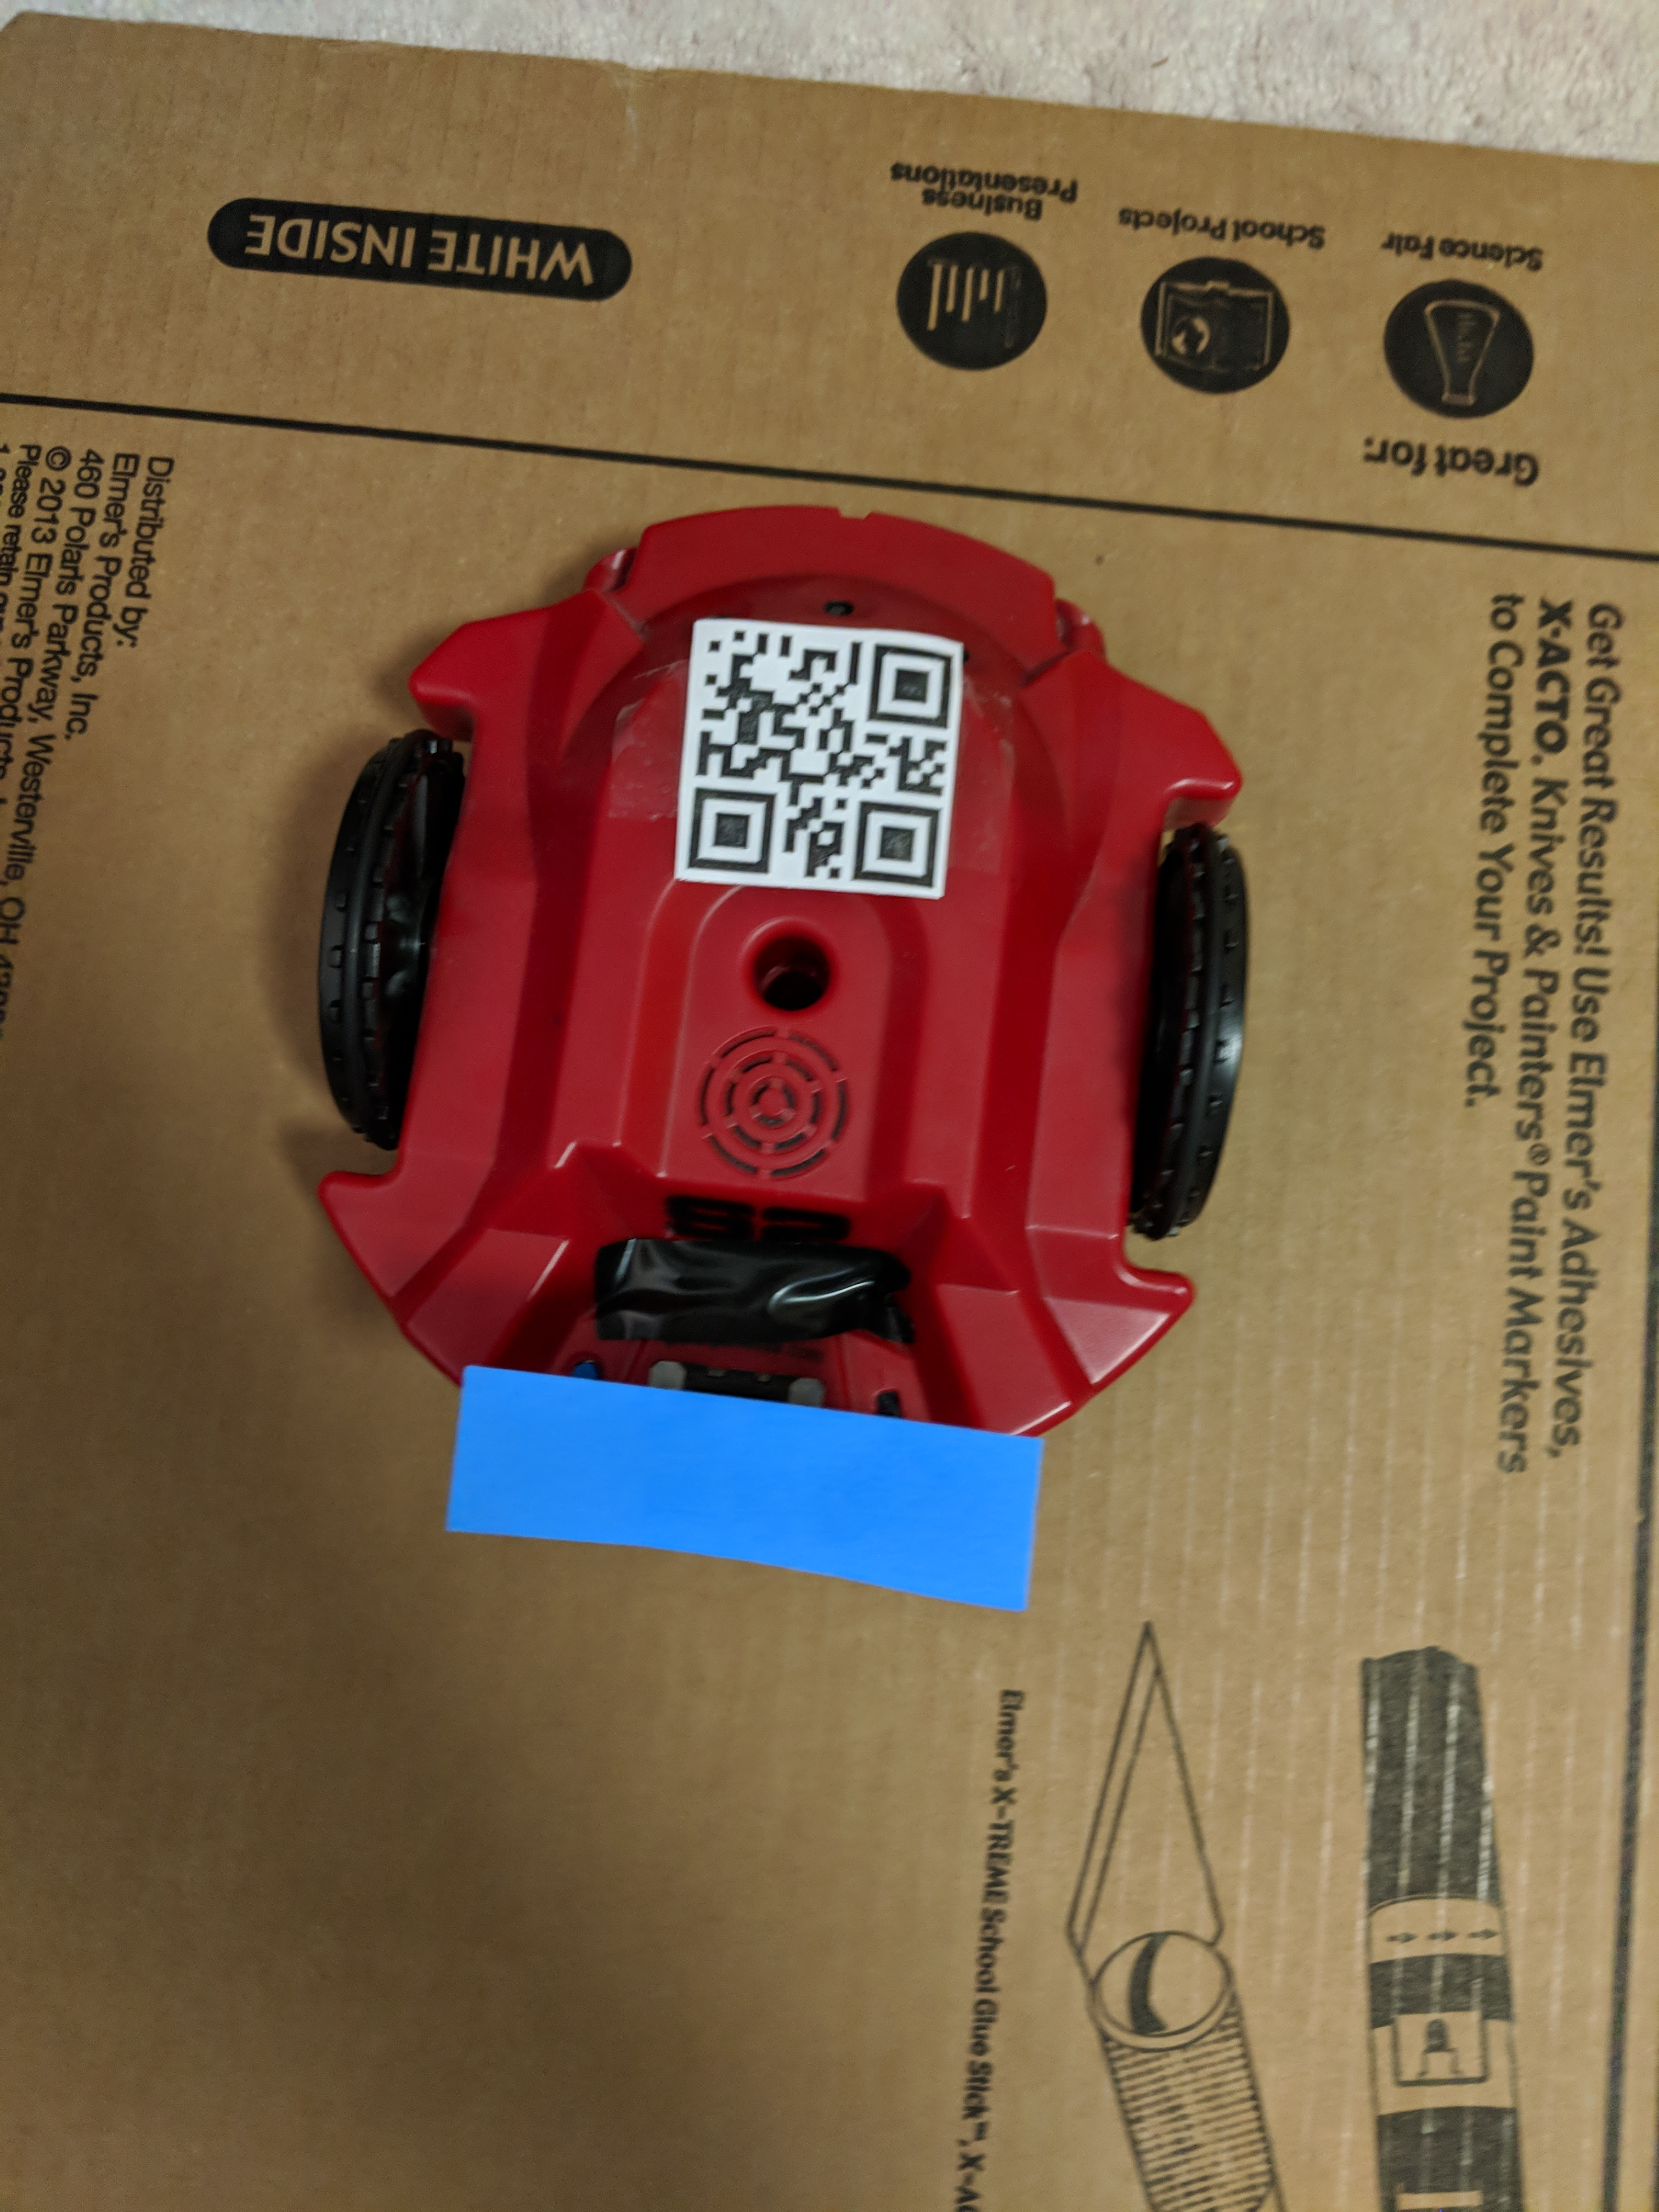chassis: (289, 484, 1288, 1648)
qr: (667, 596, 955, 911)
